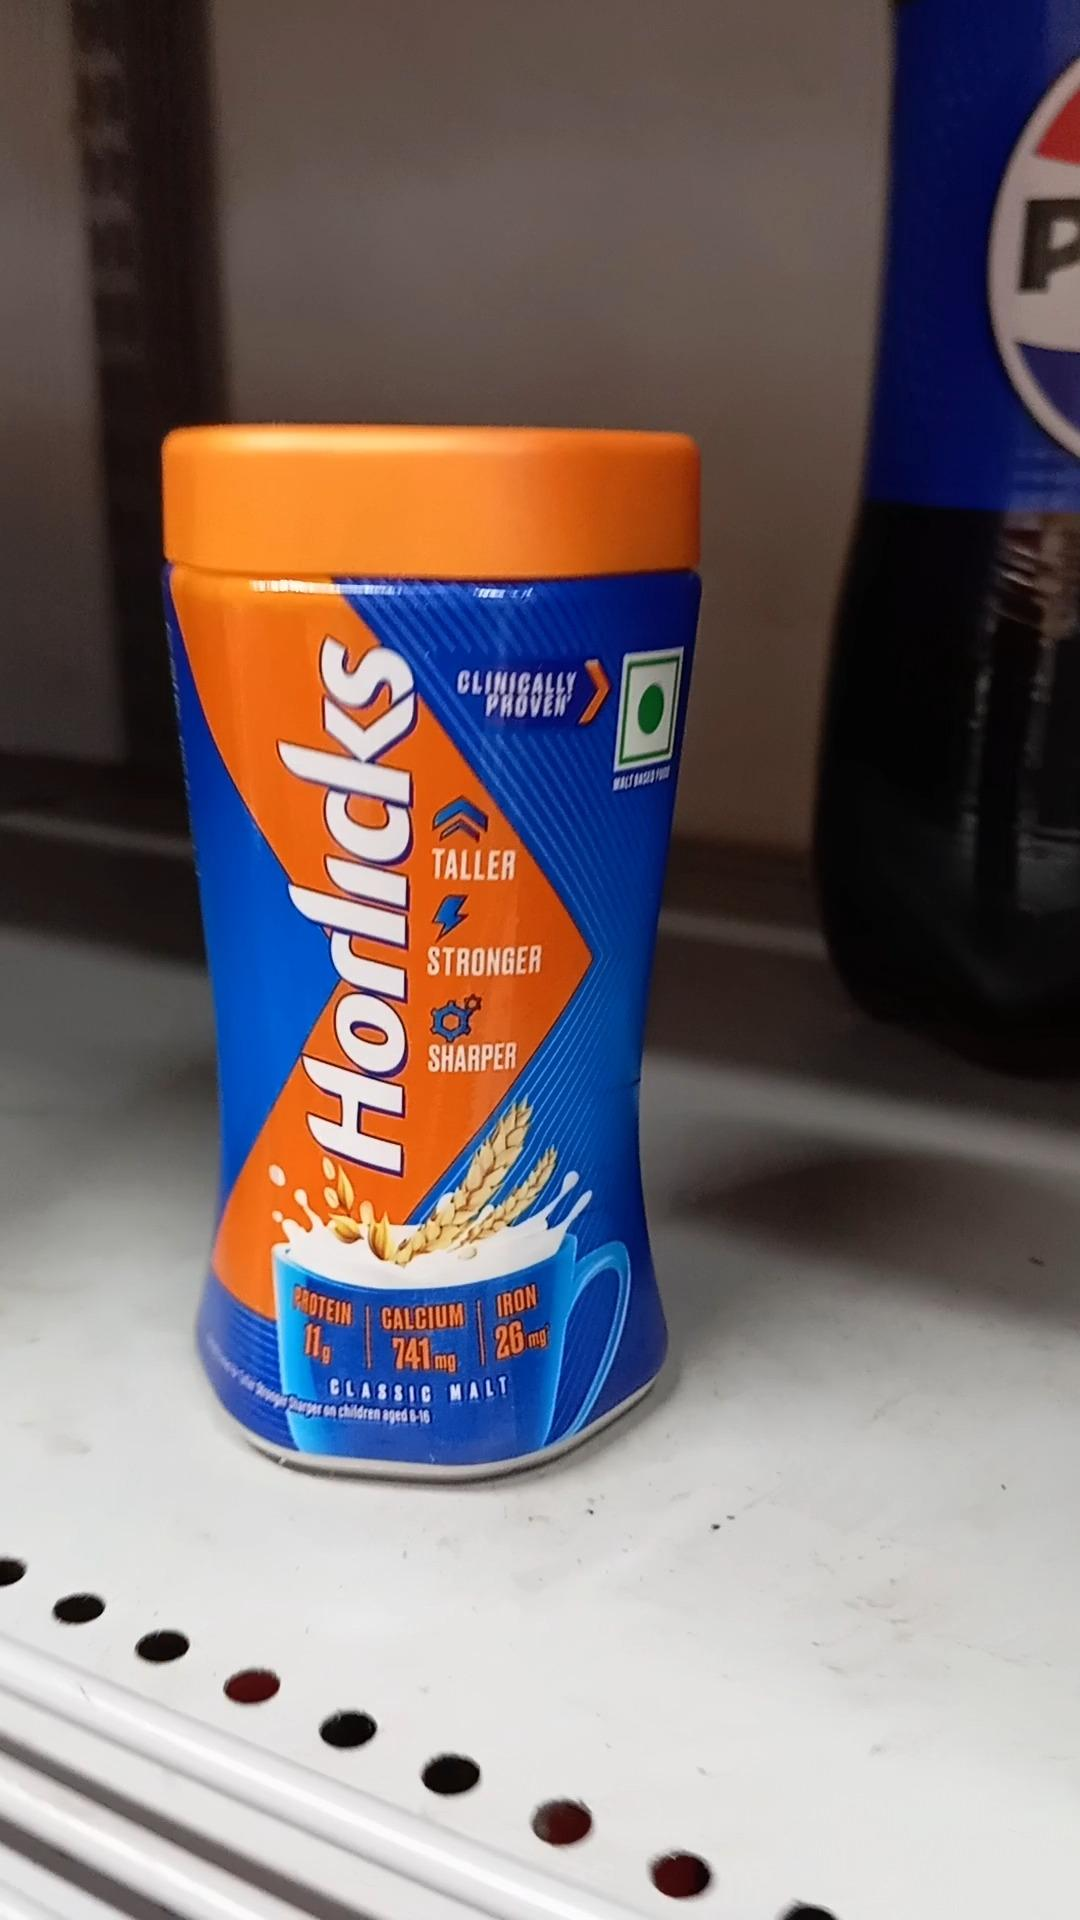HORLICK_CLASSIC_MALT_200_G_JAR: (161, 404, 671, 1462)
